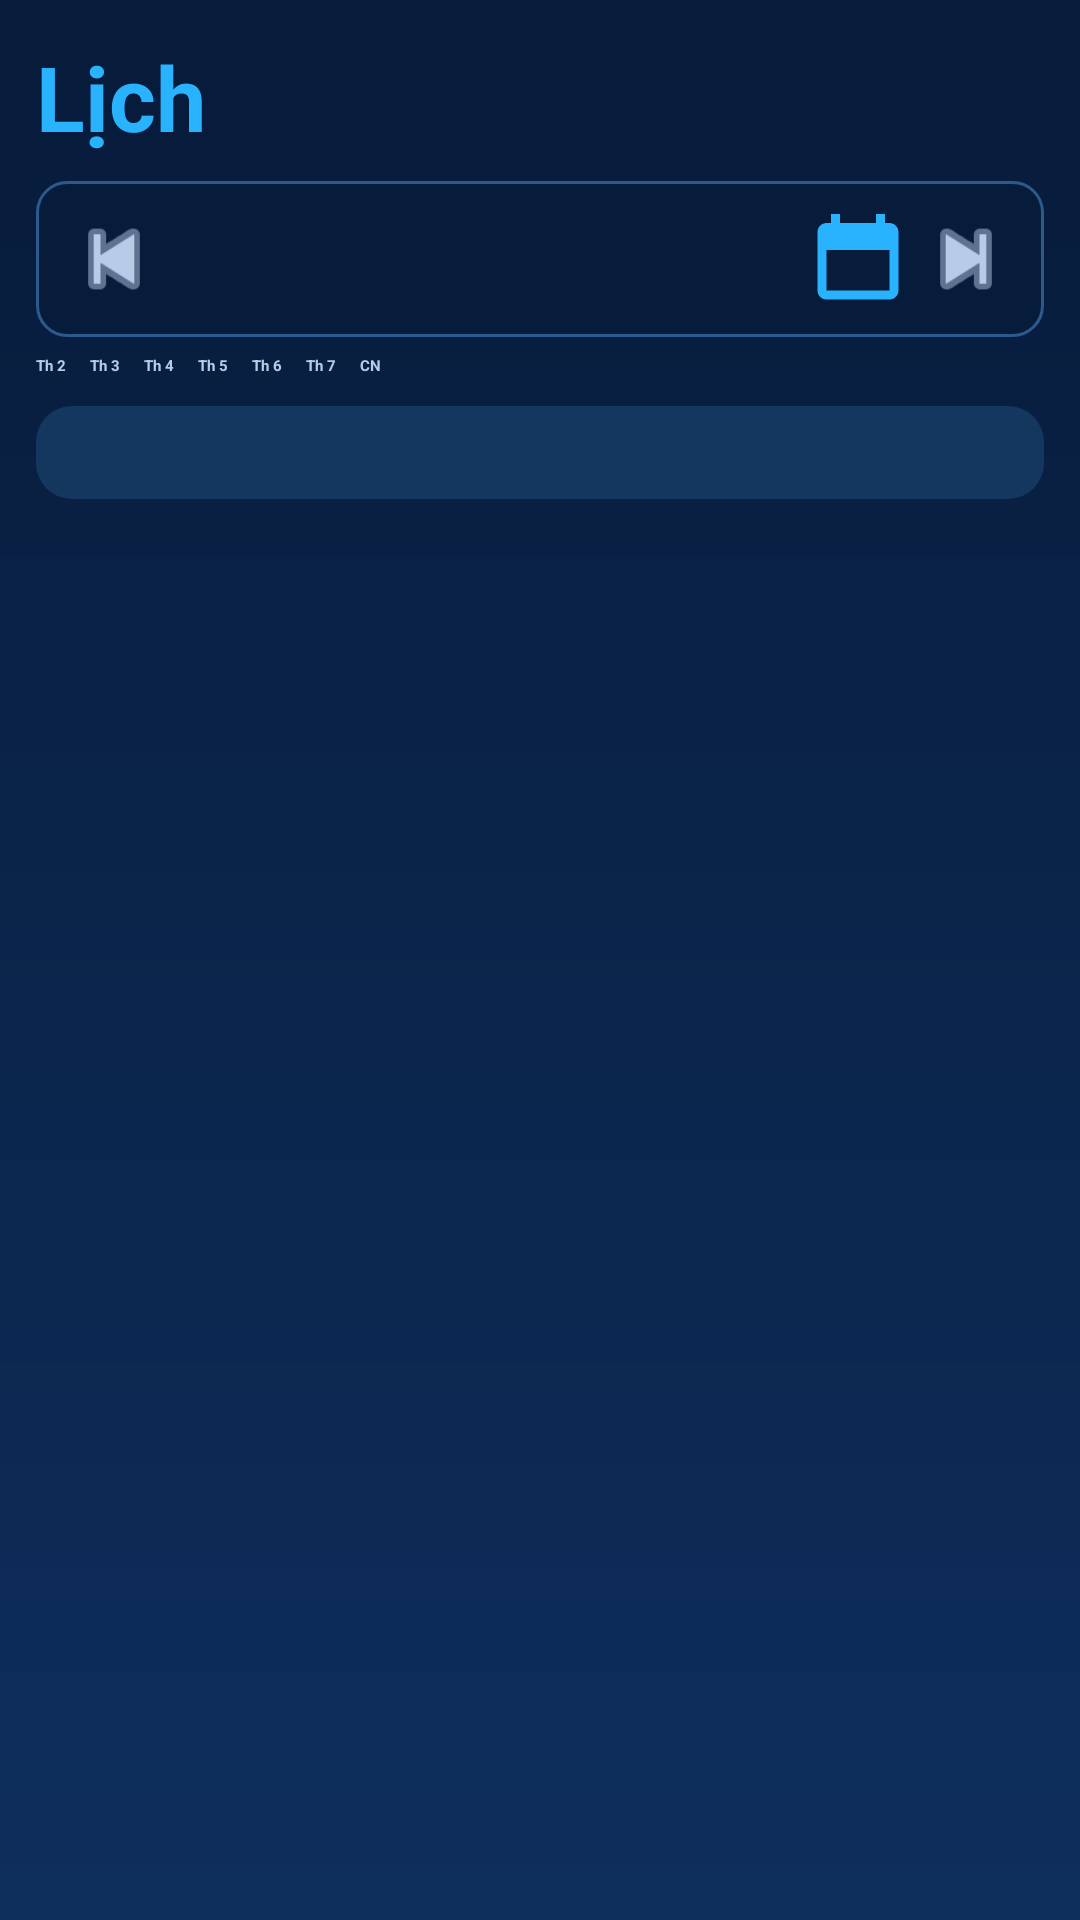

Icons on this 1080x1920 Android screen, each with its box as detection(x1, y1, x2, y2):
calendar: detection(817, 214, 899, 300)
next: detection(940, 228, 992, 290)
previous: detection(88, 228, 140, 290)
